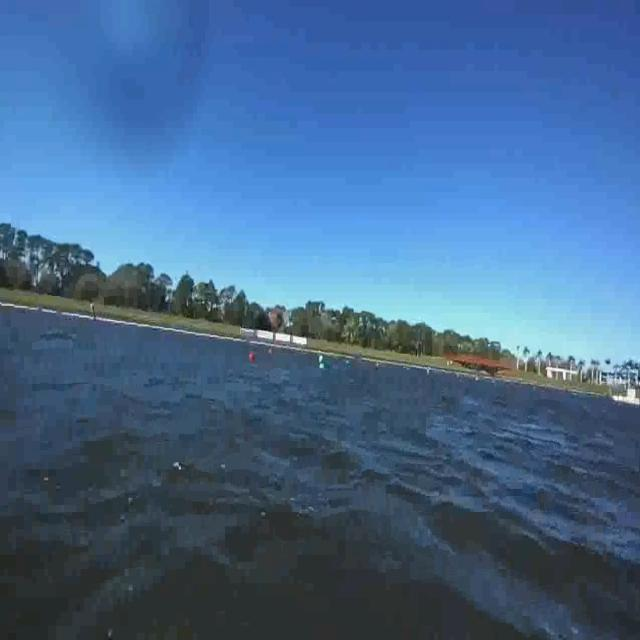red-buoy: (249, 351, 255, 363)
